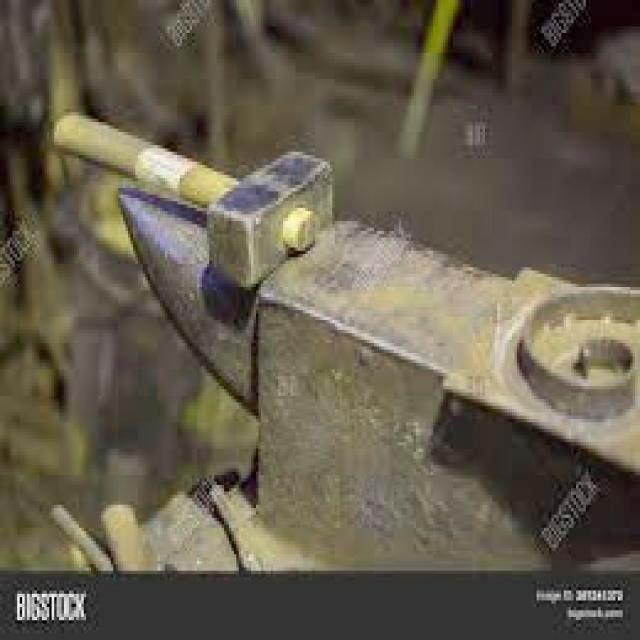hammer: (38, 102, 341, 297)
